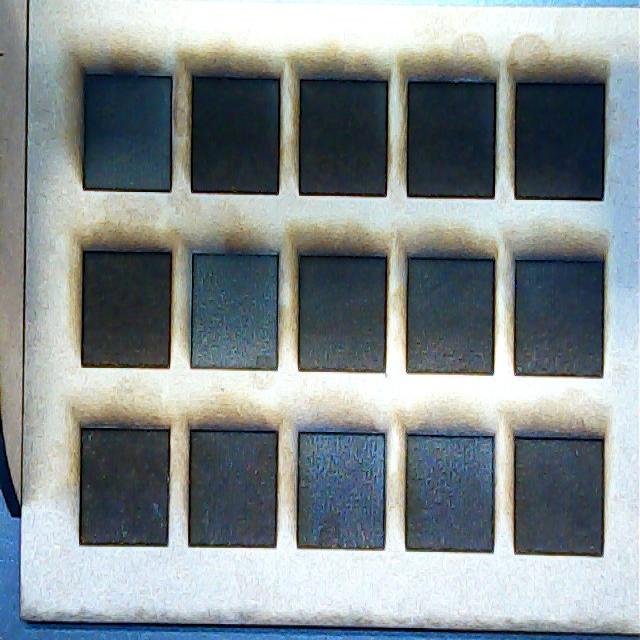nothing: (509, 246, 609, 382), (292, 243, 391, 380), (509, 75, 610, 206), (404, 245, 501, 380), (509, 429, 609, 559), (403, 72, 501, 203), (294, 71, 392, 201), (402, 426, 497, 557), (294, 423, 388, 555)
